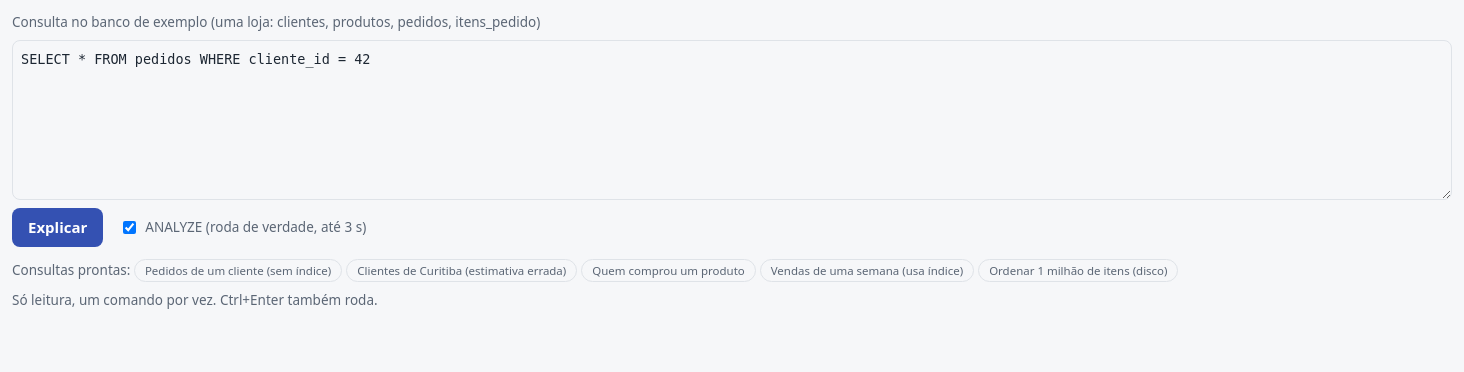
Test: rodar no banco de exemplo › erro de sintaxe: mostra a mensagem e seleciona na consulta o ponto onde o Postgres parou
The width and height of the screenshot is (1464, 372).
Step 1. Replace the text in the text box with "SELECT * FORM pedidos" → (732, 120), box [12,40,1452,200]
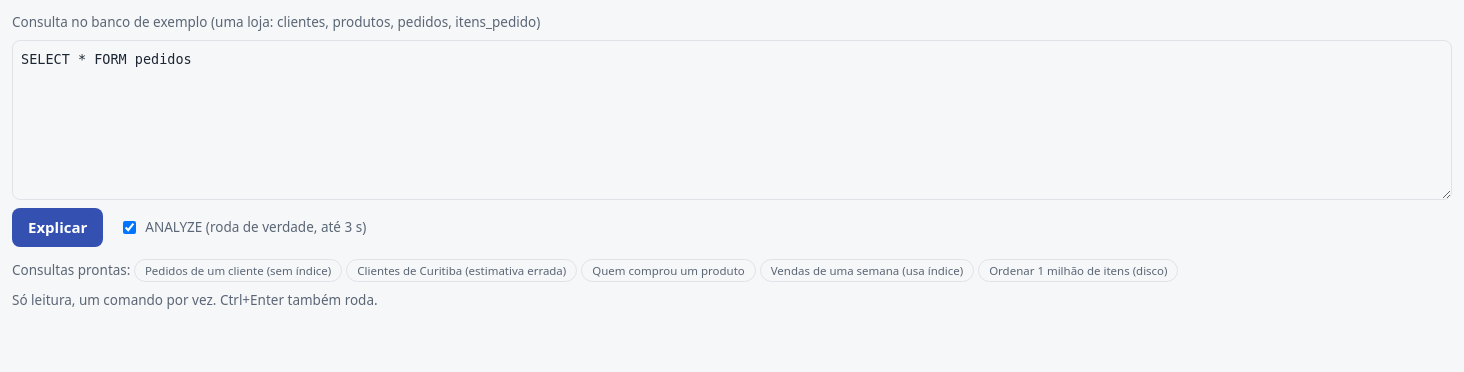
Step 2. Submit the form
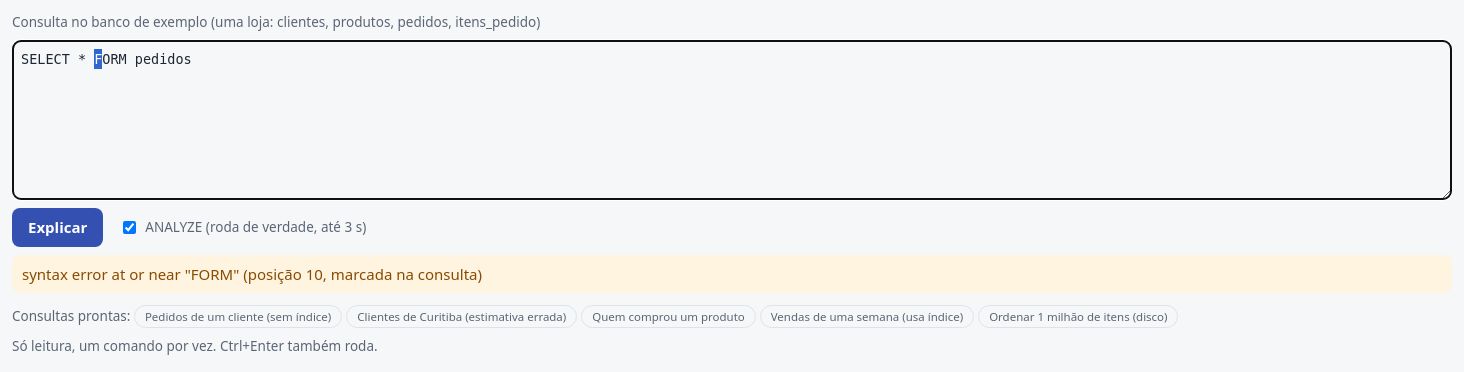
Now the message "syntax error at or near \"FORM\" (posição 10, marcada na consulta)" reads "syntax error at or near \"FORM\" (posição 10, marcada na consulta)", box [22,264,482,284]
